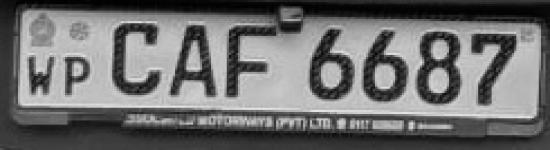6: (303, 19, 357, 108), (357, 20, 410, 106)
7: (464, 28, 520, 110)
8: (410, 26, 466, 108)
A: (168, 18, 222, 102)
C: (109, 18, 164, 98)
F: (218, 20, 286, 102)
P: (60, 53, 100, 98)
W: (25, 48, 60, 100)
